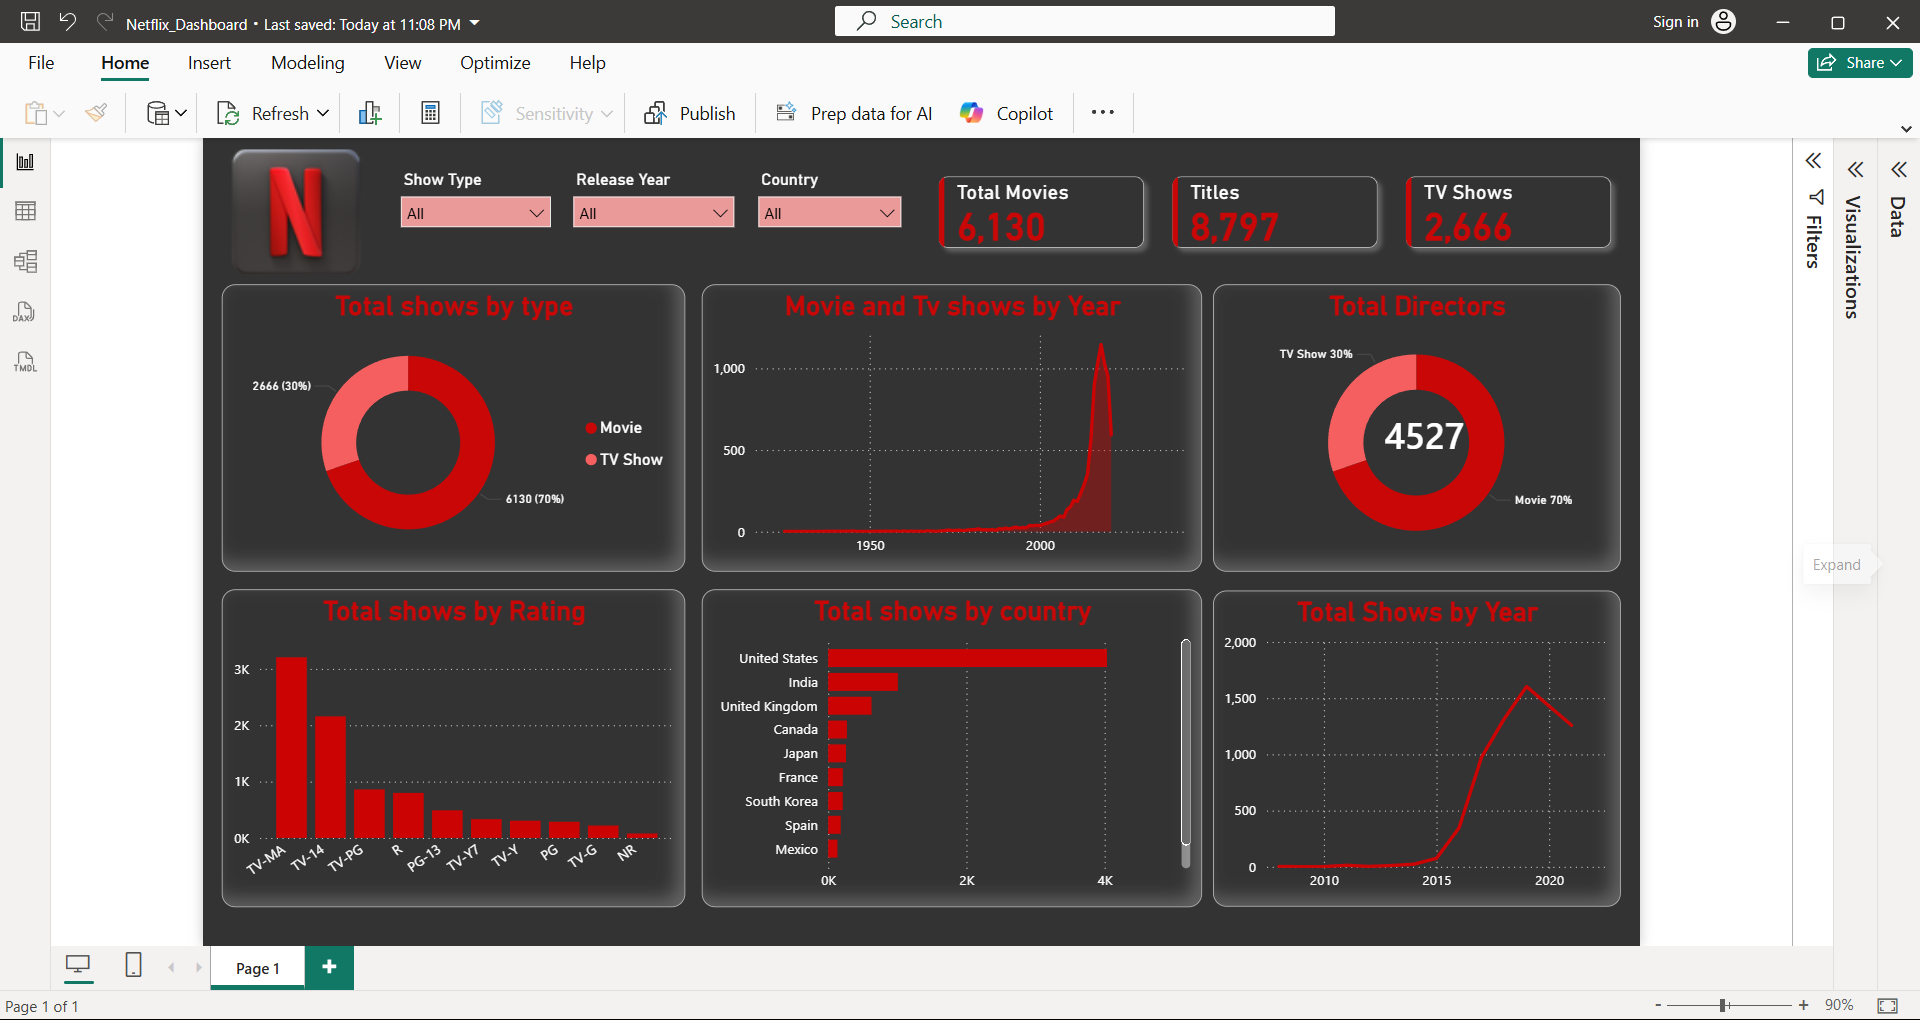

What the dashboard file says about the page in this screenshot:
{"tool":"powerbi","page":{"name":"Page 1","canvas":[1280,720],"ordinal":0},"visuals":[{"type":"cardVisual","fields":{"Data":["netflix_titles_cleaned.Total Movies","netflix_titles_cleaned.Total Titles","netflix_titles_cleaned.Total TV Shows"]},"box":[631.2,10,648.8,112.5],"z":0},{"type":"donutChart","title":"Total shows by type","fields":{"Y":["CountNonNull(netflix_titles_cleaned.show_id)"],"Category":["netflix_titles_cleaned.type"]},"box":[17.1,130,412.9,255.7],"z":1000},{"type":"areaChart","title":"Movie and Tv shows by Year","fields":{"Category":["netflix_titles_cleaned.release_year"],"Y":["CountNonNull(netflix_titles_cleaned.show_id)"]},"box":[444.3,130,445.7,255.7],"z":2000},{"type":"donutChart","title":"Total Directors","fields":{"Category":["netflix_titles_cleaned.type"],"Y":["CountNonNull(netflix_titles_cleaned.director)"]},"box":[900,130,362.9,255.7],"z":3000},{"type":"cardVisual","fields":{"Data":["netflix_titles_cleaned.Total Director"]},"box":[1022.9,227.1,135.7,71.4],"z":4000},{"type":"columnChart","title":"Total shows by Rating","fields":{"Category":["netflix_titles_cleaned.rating"],"Y":["CountNonNull(netflix_titles_cleaned.show_id)"]},"box":[17.1,401.4,412.9,282.9],"z":5000},{"type":"clusteredBarChart","title":"Total shows by country","fields":{"Y":["CountNonNull(netflix_titles_cleaned.show_id)"],"Category":["netflix_titles_cleaned.country_new"]},"box":[444.3,401.4,445.7,282.9],"z":6000},{"type":"lineChart","title":" Total Shows by Year","fields":{"Y":["CountNonNull(netflix_titles_cleaned.show_id)"],"Category":["netflix_titles_cleaned.YEAR Added"]},"box":[900,402.9,362.9,281.4],"z":7000},{"type":"slicer","fields":{"Values":["netflix_titles_cleaned.type"]},"box":[166.2,23.8,153.8,97.5],"z":8000},{"type":"slicer","fields":{"Values":["netflix_titles_cleaned.release_year"]},"box":[320,23.8,163.8,97.5],"z":9000},{"type":"slicer","fields":{"Values":["netflix_titles_cleaned.country_new"]},"box":[483.8,23.8,147.5,97.5],"z":10000},{"type":"image","box":[0,10,166.2,111.2],"z":11000}]}

Visuals, with their boxes on the page's 1280x720 design canvas (x1, y1, x2, y2). These are canvas units, not pixel positions in the 1920x1020 screenshot, which may show the page scaled, cropped or inside an application window:
cardVisual - netflix_titles_cleaned.Total Movies x netflix_titles_cleaned.Total Titles: <region>631, 10, 1280, 122</region>
"Total shows by type" donutChart: <region>17, 130, 430, 386</region>
"Movie and Tv shows by Year" areaChart: <region>444, 130, 890, 386</region>
"Total Directors" donutChart: <region>900, 130, 1263, 386</region>
cardVisual - netflix_titles_cleaned.Total Director: <region>1023, 227, 1159, 298</region>
"Total shows by Rating" columnChart: <region>17, 401, 430, 684</region>
"Total shows by country" clusteredBarChart: <region>444, 401, 890, 684</region>
" Total Shows by Year" lineChart: <region>900, 403, 1263, 684</region>
slicer - netflix_titles_cleaned.type: <region>166, 24, 320, 121</region>
slicer - netflix_titles_cleaned.release_year: <region>320, 24, 484, 121</region>
slicer - netflix_titles_cleaned.country_new: <region>484, 24, 631, 121</region>
image: <region>0, 10, 166, 121</region>
